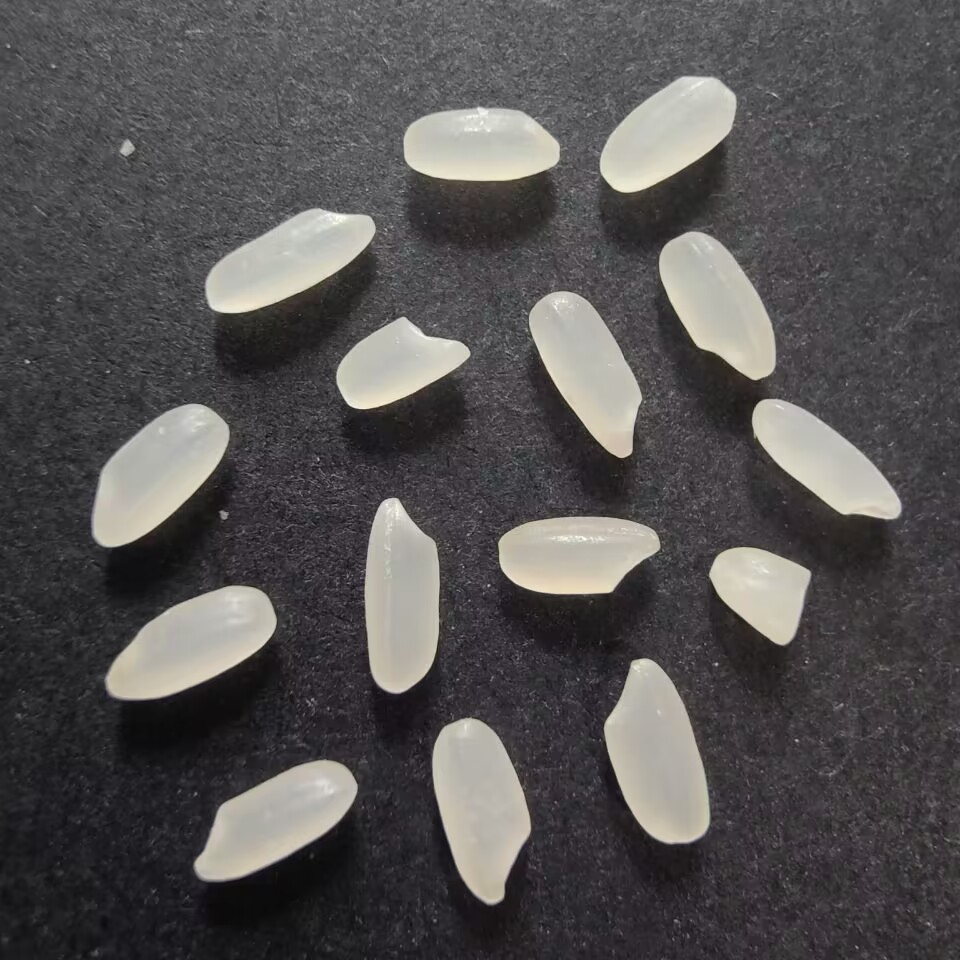broken: (706, 541, 815, 649)
rice: (594, 651, 718, 852), (185, 754, 362, 892), (85, 398, 233, 553), (524, 287, 651, 462), (425, 715, 537, 913), (98, 582, 278, 704), (748, 393, 910, 526), (198, 201, 379, 317), (652, 229, 782, 383), (359, 492, 447, 702), (594, 69, 737, 196), (487, 507, 666, 599), (397, 99, 563, 186), (333, 315, 471, 411)
